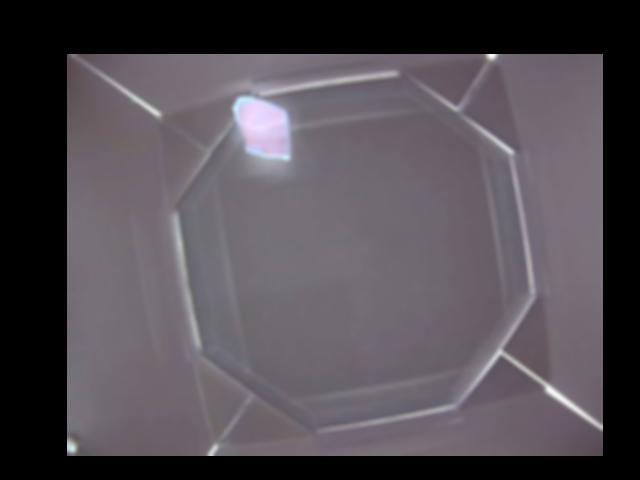China: (229, 95, 294, 163)
